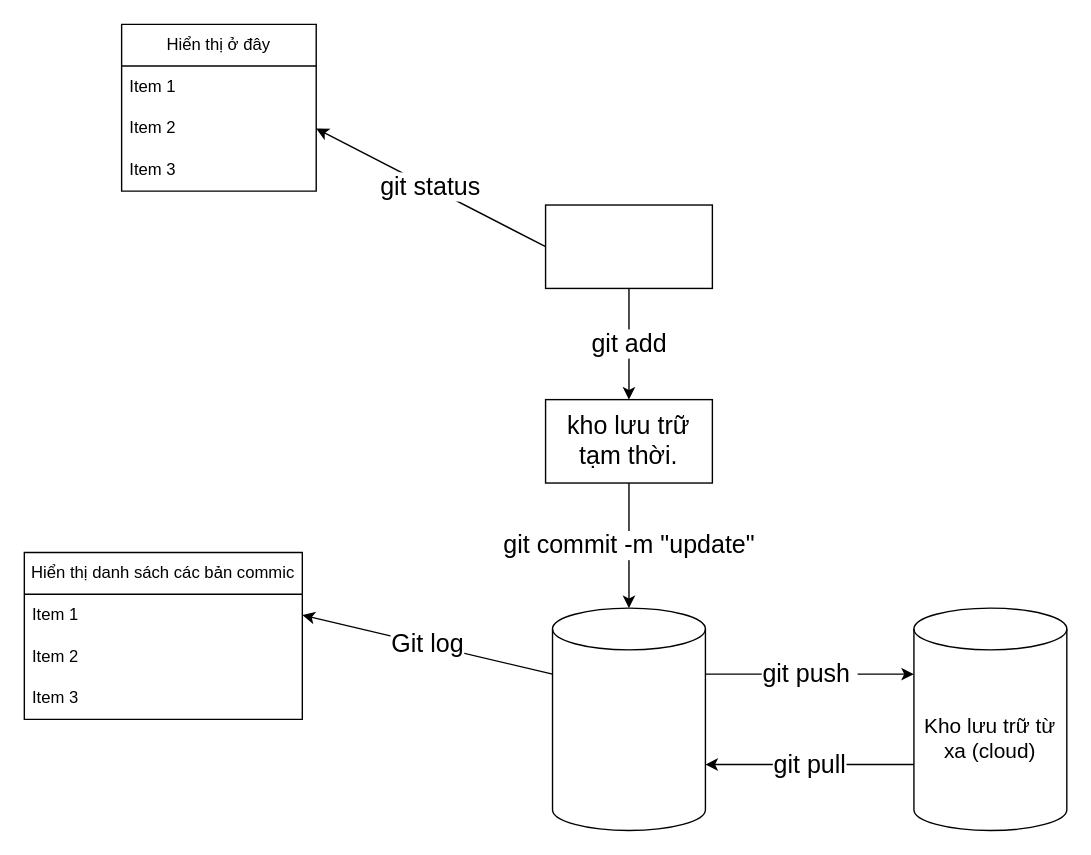
The diagram is 1091 pixels wide and 855 high, and some of its shapes have lost their labels. Here are the shapes that lost their labels. From the top down, the centre of each, then its label:
At pixel 628 246: "Khu làm việc".
At pixel 628 719: "Kho lưu trữ (local)".
